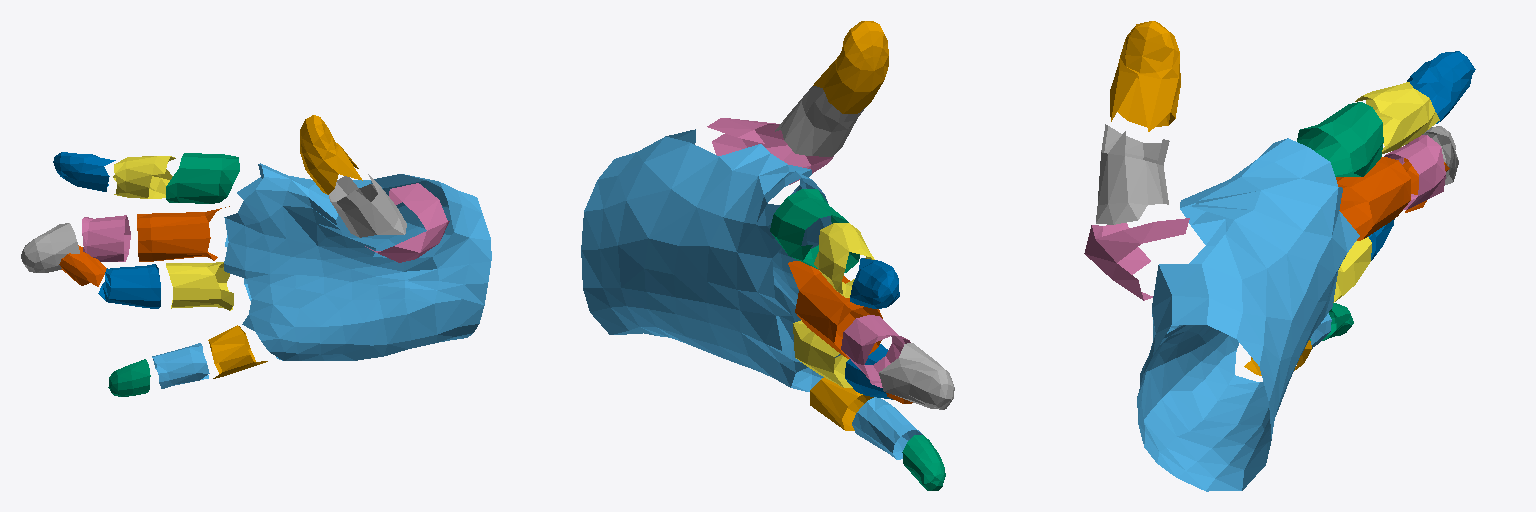
URDF robot description (mano_hand):
<?xml version="1.0" ?>
<robot name="mano_hand">
  <link name="root">
    <mass value="0.01"/>
    <inertial>
      <origin xyz="0 0 0" rpy="0 0 0"/>
      <mass value="0.01"/>
      <inertia ixx="1E-06" ixy="0" ixz="0" iyy="1E-06" iyz="0" izz="1E-06"/>
    </inertial>
  </link>

  <link name="hand">
    <inertial>
      <origin xyz="0 0 0" rpy="0 0 0"/>
      <mass value="0.01"/>
      <inertia ixx="1e-06" ixy="0" ixz="0" iyy="1e-06" iyz="0" izz="1e-06"/>
    </inertial>
    <visual>
      <origin xyz="0 0 0" rpy="0 0 0"/>
      <geometry>
        <mesh filename="meshes\hand.stl"/>
      </geometry>
    </visual>
    <collision>
      <origin xyz="0 0 0" rpy="0 0 0"/>
      <geometry>
        <mesh filename="meshes\hand.stl"/>
      </geometry>
    </collision>
  </link>
  
  <link name="link_joint_1">
    <inertial>
      <origin xyz="0 0 0" rpy="0 0 0"/>
      <mass value="0.01"/>
      <inertia ixx="1e-06" ixy="0" ixz="0" iyy="1e-06" iyz="0" izz="1e-06"/>
    </inertial>
    <visual>
      <origin xyz="0 0 0" rpy="0 0 0"/>
      <geometry>
        <mesh filename="meshes\link_joint_1.stl"/>
      </geometry>
    </visual>
    <collision>
      <origin xyz="0 0 0" rpy="0 0 0"/>
      <geometry>
        <mesh filename="meshes\link_joint_1.stl"/>
      </geometry>
    </collision>
  </link>
  <link name="link_joint_2">
    <inertial>
      <origin xyz="0 0 0" rpy="0 0 0"/>
      <mass value="0.01"/>
      <inertia ixx="1e-06" ixy="0" ixz="0" iyy="1e-06" iyz="0" izz="1e-06"/>
    </inertial>
    <visual>
      <origin xyz="0 0 0" rpy="0 0 0"/>
      <geometry>
        <mesh filename="meshes\link_joint_2.stl"/>
      </geometry>
    </visual>
    <collision>
      <origin xyz="0 0 0" rpy="0 0 0"/>
      <geometry>
        <mesh filename="meshes\link_joint_2.stl"/>
      </geometry>
    </collision>
  </link>
  <link name="link_joint_3">
    <inertial>
      <origin xyz="0 0 0" rpy="0 0 0"/>
      <mass value="0.01"/>
      <inertia ixx="1e-06" ixy="0" ixz="0" iyy="1e-06" iyz="0" izz="1e-06"/>
    </inertial>
    <visual>
      <origin xyz="0 0 0" rpy="0 0 0"/>
      <geometry>
        <mesh filename="meshes\link_joint_3.stl"/>
      </geometry>
    </visual>
    <collision>
      <origin xyz="0 0 0" rpy="0 0 0"/>
      <geometry>
        <mesh filename="meshes\link_joint_3.stl"/>
      </geometry>
    </collision>
  </link>
  <link name="link_joint_4">
    <inertial>
      <origin xyz="0 0 0" rpy="0 0 0"/>
      <mass value="0.01"/>
      <inertia ixx="1e-06" ixy="0" ixz="0" iyy="1e-06" iyz="0" izz="1e-06"/>
    </inertial>
    <visual>
      <origin xyz="0 0 0" rpy="0 0 0"/>
      <geometry>
        <mesh filename="meshes\link_joint_4.stl"/>
      </geometry>
    </visual>
    <collision>
      <origin xyz="0 0 0" rpy="0 0 0"/>
      <geometry>
        <mesh filename="meshes\link_joint_4.stl"/>
      </geometry>
    </collision>
  </link>
  <link name="link_joint_5">
    <inertial>
      <origin xyz="0 0 0" rpy="0 0 0"/>
      <mass value="0.01"/>
      <inertia ixx="1e-06" ixy="0" ixz="0" iyy="1e-06" iyz="0" izz="1e-06"/>
    </inertial>
    <visual>
      <origin xyz="0 0 0" rpy="0 0 0"/>
      <geometry>
        <mesh filename="meshes\link_joint_5.stl"/>
      </geometry>
    </visual>
    <collision>
      <origin xyz="0 0 0" rpy="0 0 0"/>
      <geometry>
        <mesh filename="meshes\link_joint_5.stl"/>
      </geometry>
    </collision>
  </link>
  <link name="link_joint_6">
    <inertial>
      <origin xyz="0 0 0" rpy="0 0 0"/>
      <mass value="0.01"/>
      <inertia ixx="1e-06" ixy="0" ixz="0" iyy="1e-06" iyz="0" izz="1e-06"/>
    </inertial>
    <visual>
      <origin xyz="0 0 0" rpy="0 0 0"/>
      <geometry>
        <mesh filename="meshes\link_joint_6.stl"/>
      </geometry>
    </visual>
    <collision>
      <origin xyz="0 0 0" rpy="0 0 0"/>
      <geometry>
        <mesh filename="meshes\link_joint_6.stl"/>
      </geometry>
    </collision>
  </link>
  <link name="link_joint_7">
    <inertial>
      <origin xyz="0 0 0" rpy="0 0 0"/>
      <mass value="0.01"/>
      <inertia ixx="1e-06" ixy="0" ixz="0" iyy="1e-06" iyz="0" izz="1e-06"/>
    </inertial>
    <visual>
      <origin xyz="0 0 0" rpy="0 0 0"/>
      <geometry>
        <mesh filename="meshes\link_joint_7.stl"/>
      </geometry>
    </visual>
    <collision>
      <origin xyz="0 0 0" rpy="0 0 0"/>
      <geometry>
        <mesh filename="meshes\link_joint_7.stl"/>
      </geometry>
    </collision>
  </link>
  <link name="link_joint_8">
    <inertial>
      <origin xyz="0 0 0" rpy="0 0 0"/>
      <mass value="0.01"/>
      <inertia ixx="1e-06" ixy="0" ixz="0" iyy="1e-06" iyz="0" izz="1e-06"/>
    </inertial>
    <visual>
      <origin xyz="0 0 0" rpy="0 0 0"/>
      <geometry>
        <mesh filename="meshes\link_joint_8.stl"/>
      </geometry>
    </visual>
    <collision>
      <origin xyz="0 0 0" rpy="0 0 0"/>
      <geometry>
        <mesh filename="meshes\link_joint_8.stl"/>
      </geometry>
    </collision>
  </link>
  <link name="link_joint_9">
    <inertial>
      <origin xyz="0 0 0" rpy="0 0 0"/>
      <mass value="0.01"/>
      <inertia ixx="1e-06" ixy="0" ixz="0" iyy="1e-06" iyz="0" izz="1e-06"/>
    </inertial>
    <visual>
      <origin xyz="0 0 0" rpy="0 0 0"/>
      <geometry>
        <mesh filename="meshes\link_joint_9.stl"/>
      </geometry>
    </visual>
    <collision>
      <origin xyz="0 0 0" rpy="0 0 0"/>
      <geometry>
        <mesh filename="meshes\link_joint_9.stl"/>
      </geometry>
    </collision>
  </link>
  <link name="link_joint_10">
    <inertial>
      <origin xyz="0 0 0" rpy="0 0 0"/>
      <mass value="0.01"/>
      <inertia ixx="1e-06" ixy="0" ixz="0" iyy="1e-06" iyz="0" izz="1e-06"/>
    </inertial>
    <visual>
      <origin xyz="0 0 0" rpy="0 0 0"/>
      <geometry>
        <mesh filename="meshes\link_joint_10.stl"/>
      </geometry>
    </visual>
    <collision>
      <origin xyz="0 0 0" rpy="0 0 0"/>
      <geometry>
        <mesh filename="meshes\link_joint_10.stl"/>
      </geometry>
    </collision>
  </link>
  <link name="link_joint_11">
    <inertial>
      <origin xyz="0 0 0" rpy="0 0 0"/>
      <mass value="0.01"/>
      <inertia ixx="1e-06" ixy="0" ixz="0" iyy="1e-06" iyz="0" izz="1e-06"/>
    </inertial>
    <visual>
      <origin xyz="0 0 0" rpy="0 0 0"/>
      <geometry>
        <mesh filename="meshes\link_joint_11.stl"/>
      </geometry>
    </visual>
    <collision>
      <origin xyz="0 0 0" rpy="0 0 0"/>
      <geometry>
        <mesh filename="meshes\link_joint_11.stl"/>
      </geometry>
    </collision>
  </link>
  <link name="link_joint_12">
    <inertial>
      <origin xyz="0 0 0" rpy="0 0 0"/>
      <mass value="0.01"/>
      <inertia ixx="1e-06" ixy="0" ixz="0" iyy="1e-06" iyz="0" izz="1e-06"/>
    </inertial>
    <visual>
      <origin xyz="0 0 0" rpy="0 0 0"/>
      <geometry>
        <mesh filename="meshes\link_joint_12.stl"/>
      </geometry>
    </visual>
    <collision>
      <origin xyz="0 0 0" rpy="0 0 0"/>
      <geometry>
        <mesh filename="meshes\link_joint_12.stl"/>
      </geometry>
    </collision>
  </link>
  <link name="link_joint_13">
    <inertial>
      <origin xyz="0 0 0" rpy="0 0 0"/>
      <mass value="0.01"/>
      <inertia ixx="1e-06" ixy="0" ixz="0" iyy="1e-06" iyz="0" izz="1e-06"/>
    </inertial>
    <visual>
      <origin xyz="0 0 0" rpy="0 0 0"/>
      <geometry>
        <mesh filename="meshes\link_joint_13.stl"/>
      </geometry>
    </visual>
    <collision>
      <origin xyz="0 0 0" rpy="0 0 0"/>
      <geometry>
        <mesh filename="meshes\link_joint_13.stl"/>
      </geometry>
    </collision>
  </link>
  <link name="link_joint_14">
    <inertial>
      <origin xyz="0 0 0" rpy="0 0 0"/>
      <mass value="0.01"/>
      <inertia ixx="1e-06" ixy="0" ixz="0" iyy="1e-06" iyz="0" izz="1e-06"/>
    </inertial>
    <visual>
      <origin xyz="0 0 0" rpy="0 0 0"/>
      <geometry>
        <mesh filename="meshes\link_joint_14.stl"/>
      </geometry>
    </visual>
    <collision>
      <origin xyz="0 0 0" rpy="0 0 0"/>
      <geometry>
        <mesh filename="meshes\link_joint_14.stl"/>
      </geometry>
    </collision>
  </link>
  <link name="link_joint_15">
    <inertial>
      <origin xyz="0 0 0" rpy="0 0 0"/>
      <mass value="0.01"/>
      <inertia ixx="1e-06" ixy="0" ixz="0" iyy="1e-06" iyz="0" izz="1e-06"/>
    </inertial>
    <visual>
      <origin xyz="0 0 0" rpy="0 0 0"/>
      <geometry>
        <mesh filename="meshes\link_joint_15.stl"/>
      </geometry>
    </visual>
    <collision>
      <origin xyz="0 0 0" rpy="0 0 0"/>
      <geometry>
        <mesh filename="meshes\link_joint_15.stl"/>
      </geometry>
    </collision>
  </link>
  <joint name="joint_hand_to_link_joint_0" type="fixed">
    <parent link="root"/>
    <child link="hand"/>
    <origin xyz="0 0 0" rpy="0 0 0"/>
    <axis xyz="0 0 1"/>
  </joint>
  <joint name="joint_hand_to_link_joint_1" type="revolute">
    <parent link="hand"/>
    <child link="link_joint_1"/>
    <origin xyz="0 0 0" rpy="0 0 0"/>
    <axis xyz="0 0 1"/>
    <limit lower="-3.1416" upper="3.1416" effort="50" velocity="0.1"/>
  </joint>
  <joint name="joint_hand_to_link_joint_2" type="revolute">
    <parent link="hand"/>
    <child link="link_joint_2"/>
    <origin xyz="0 0 0" rpy="0 0 0"/>
    <axis xyz="0 0 1"/>
    <limit lower="-3.1416" upper="3.1416" effort="50" velocity="0.1"/>
  </joint>
  <joint name="joint_hand_to_link_joint_3" type="revolute">
    <parent link="hand"/>
    <child link="link_joint_3"/>
    <origin xyz="0 0 0" rpy="0 0 0"/>
    <axis xyz="0 0 1"/>
    <limit lower="-3.1416" upper="3.1416" effort="50" velocity="0.1"/>
  </joint>
  <joint name="joint_hand_to_link_joint_4" type="revolute">
    <parent link="hand"/>
    <child link="link_joint_4"/>
    <origin xyz="0 0 0" rpy="0 0 0"/>
    <axis xyz="0 0 1"/>
    <limit lower="-3.1416" upper="3.1416" effort="50" velocity="0.1"/>
  </joint>
  <joint name="joint_hand_to_link_joint_5" type="revolute">
    <parent link="hand"/>
    <child link="link_joint_5"/>
    <origin xyz="0 0 0" rpy="0 0 0"/>
    <axis xyz="0 0 1"/>
    <limit lower="-3.1416" upper="3.1416" effort="50" velocity="0.1"/>
  </joint>
  <joint name="joint_hand_to_link_joint_6" type="revolute">
    <parent link="hand"/>
    <child link="link_joint_6"/>
    <origin xyz="0 0 0" rpy="0 0 0"/>
    <axis xyz="0 0 1"/>
    <limit lower="-3.1416" upper="3.1416" effort="50" velocity="0.1"/>
  </joint>
  <joint name="joint_hand_to_link_joint_7" type="revolute">
    <parent link="hand"/>
    <child link="link_joint_7"/>
    <origin xyz="0 0 0" rpy="0 0 0"/>
    <axis xyz="0 0 1"/>
    <limit lower="-3.1416" upper="3.1416" effort="50" velocity="0.1"/>
  </joint>
  <joint name="joint_hand_to_link_joint_8" type="revolute">
    <parent link="hand"/>
    <child link="link_joint_8"/>
    <origin xyz="0 0 0" rpy="0 0 0"/>
    <axis xyz="0 0 1"/>
    <limit lower="-3.1416" upper="3.1416" effort="50" velocity="0.1"/>
  </joint>
  <joint name="joint_hand_to_link_joint_9" type="revolute">
    <parent link="hand"/>
    <child link="link_joint_9"/>
    <origin xyz="0 0 0" rpy="0 0 0"/>
    <axis xyz="0 0 1"/>
    <limit lower="-3.1416" upper="3.1416" effort="50" velocity="0.1"/>
  </joint>
  <joint name="joint_hand_to_link_joint_10" type="revolute">
    <parent link="hand"/>
    <child link="link_joint_10"/>
    <origin xyz="0 0 0" rpy="0 0 0"/>
    <axis xyz="0 0 1"/>
    <limit lower="-3.1416" upper="3.1416" effort="50" velocity="0.1"/>
  </joint>
  <joint name="joint_hand_to_link_joint_11" type="revolute">
    <parent link="hand"/>
    <child link="link_joint_11"/>
    <origin xyz="0 0 0" rpy="0 0 0"/>
    <axis xyz="0 0 1"/>
    <limit lower="-3.1416" upper="3.1416" effort="50" velocity="0.1"/>
  </joint>
  <joint name="joint_hand_to_link_joint_12" type="revolute">
    <parent link="hand"/>
    <child link="link_joint_12"/>
    <origin xyz="0 0 0" rpy="0 0 0"/>
    <axis xyz="0 0 1"/>
    <limit lower="-3.1416" upper="3.1416" effort="50" velocity="0.1"/>
  </joint>
  <joint name="joint_hand_to_link_joint_13" type="revolute">
    <parent link="hand"/>
    <child link="link_joint_13"/>
    <origin xyz="0 0 0" rpy="0 0 0"/>
    <axis xyz="0 0 1"/>
    <limit lower="-3.1416" upper="3.1416" effort="50" velocity="0.1"/>
  </joint>
  <joint name="joint_hand_to_link_joint_14" type="revolute">
    <parent link="hand"/>
    <child link="link_joint_14"/>
    <origin xyz="0 0 0" rpy="0 0 0"/>
    <axis xyz="0 0 1"/>
    <limit lower="-3.1416" upper="3.1416" effort="50" velocity="0.1"/>
  </joint>
  <joint name="joint_hand_to_link_joint_15" type="revolute">
    <parent link="hand"/>
    <child link="link_joint_15"/>
    <origin xyz="0 0 0" rpy="0 0 0"/>
    <axis xyz="0 0 1"/>
    <limit lower="-3.1416" upper="3.1416" effort="50" velocity="0.1"/>
  </joint>
</robot>

--- Render facts (derived) ---
The picture shows the robot from 3 angles, left to right: view 1: azimuth 30°, elevation 25°; view 2: azimuth 150°, elevation 25°; view 3: azimuth 270°, elevation 25°; orthographic projection.
Model mano_hand with 17 links and 16 joints (15 revolute, 1 fixed), rooted at root, posed every joint at zero.
Visible links, largest first — view 1: hand, link_joint_4, link_joint_14, link_joint_1, link_joint_15, link_joint_10, link_joint_13, link_joint_11, link_joint_2, link_joint_5, link_joint_6, link_joint_8 (+4 smaller); view 2: hand, link_joint_15, link_joint_4, link_joint_14, link_joint_6, link_joint_1, link_joint_13, link_joint_8, link_joint_5, link_joint_2, link_joint_3, link_joint_10 (+3 smaller); view 3: hand, link_joint_15, link_joint_14, link_joint_1, link_joint_4, link_joint_13, link_joint_2, link_joint_3, link_joint_5, link_joint_10, link_joint_6, link_joint_9.
Link boxes in pixels (<box>): hand: <box>224,163,491,360</box>; link_joint_4: <box>137,206,229,261</box>; link_joint_14: <box>329,174,406,237</box>; link_joint_1: <box>166,153,239,203</box>; link_joint_15: <box>300,115,362,194</box>; link_joint_10: <box>166,262,233,310</box>; link_joint_13: <box>365,183,449,262</box>; link_joint_11: <box>98,264,160,308</box>; link_joint_2: <box>113,156,175,198</box>; link_joint_5: <box>82,215,130,261</box>; link_joint_6: <box>21,223,79,272</box>; link_joint_8: <box>152,343,209,388</box>; hand: <box>581,129,840,391</box>; link_joint_15: <box>813,21,888,113</box>; link_joint_4: <box>788,261,882,358</box>; link_joint_14: <box>775,86,865,156</box>; link_joint_6: <box>879,343,954,409</box>; link_joint_1: <box>770,189,859,272</box>; link_joint_13: <box>707,118,833,184</box>; link_joint_8: <box>852,397,922,459</box>; link_joint_5: <box>841,315,910,387</box>; link_joint_2: <box>814,223,874,297</box>; link_joint_3: <box>850,258,899,308</box>; link_joint_10: <box>793,320,852,387</box>; hand: <box>1137,138,1359,491</box>; link_joint_15: <box>1110,21,1180,131</box>; link_joint_14: <box>1096,124,1169,224</box>; link_joint_1: <box>1297,102,1383,176</box>; link_joint_4: <box>1336,157,1410,240</box>; link_joint_13: <box>1084,218,1189,300</box>; link_joint_2: <box>1355,82,1439,153</box>; link_joint_3: <box>1407,51,1475,123</box>; link_joint_5: <box>1384,135,1445,209</box>; link_joint_10: <box>1333,237,1371,302</box>; link_joint_6: <box>1406,126,1458,184</box>; link_joint_9: <box>1310,303,1353,340</box>.
Bounding box of the posed robot: 0.1734 × 0.1211 × 0.1347 m (x, y, z).
16 mesh visuals loaded from 16 distinct referenced files (16 binary STL).
